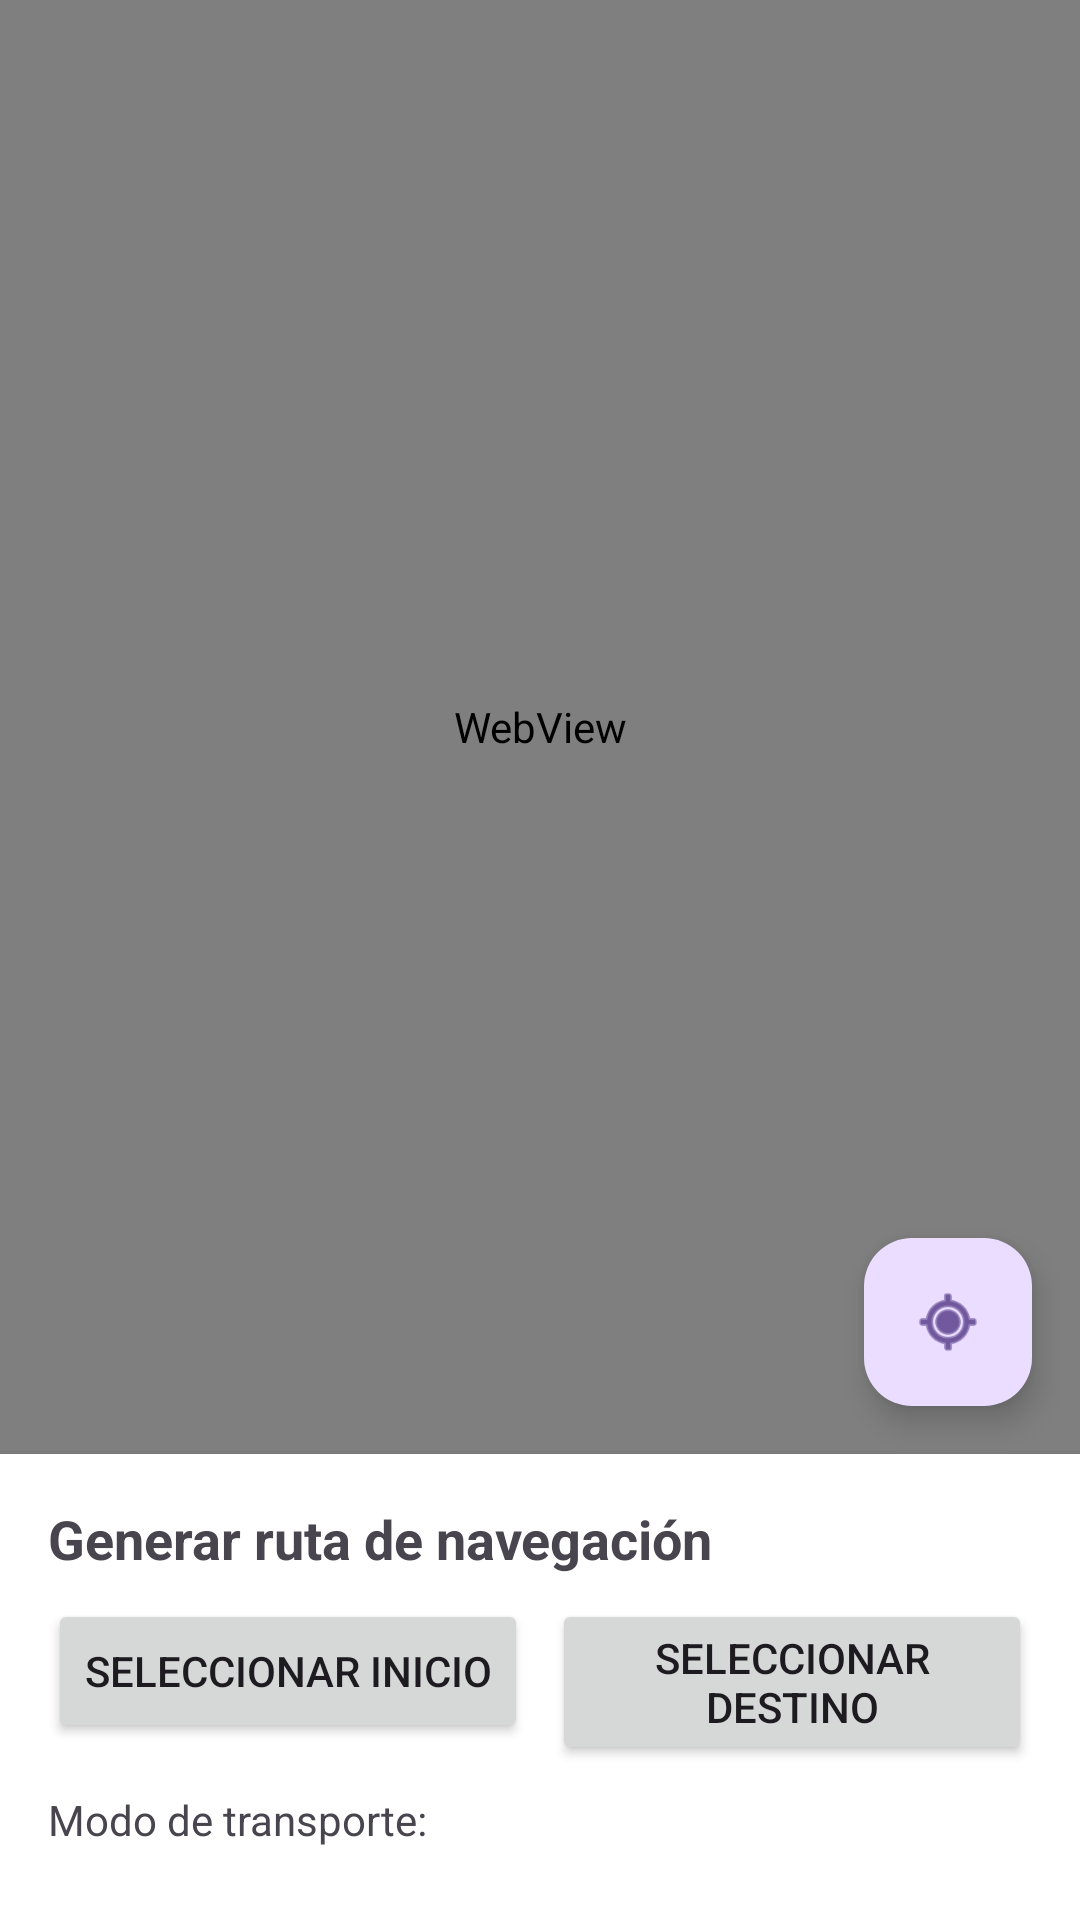

Screen size 1080px x 1920px. Icon name, then its center in pixels as [x,y]:
Mi ubicación: [948,1322]
